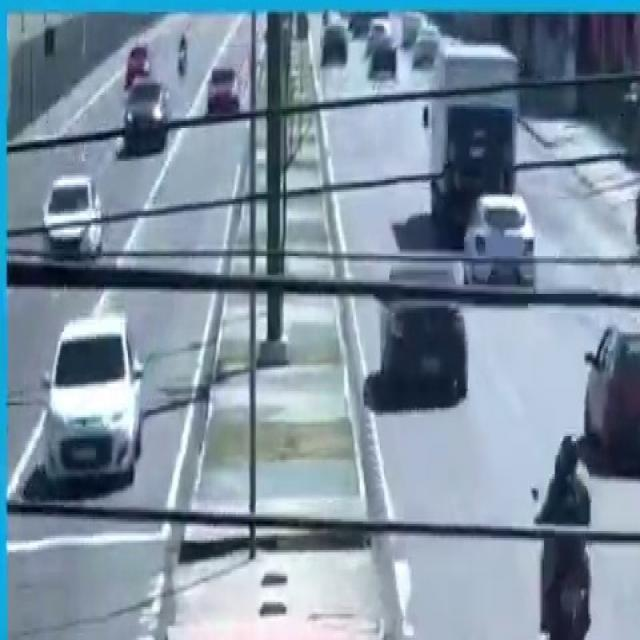biker: (528, 436, 603, 640), (630, 149, 640, 270)
car: (42, 311, 150, 503), (372, 261, 470, 404), (468, 190, 543, 318), (581, 327, 640, 486), (36, 166, 100, 266), (120, 76, 174, 152)
truck: (426, 41, 522, 240)
